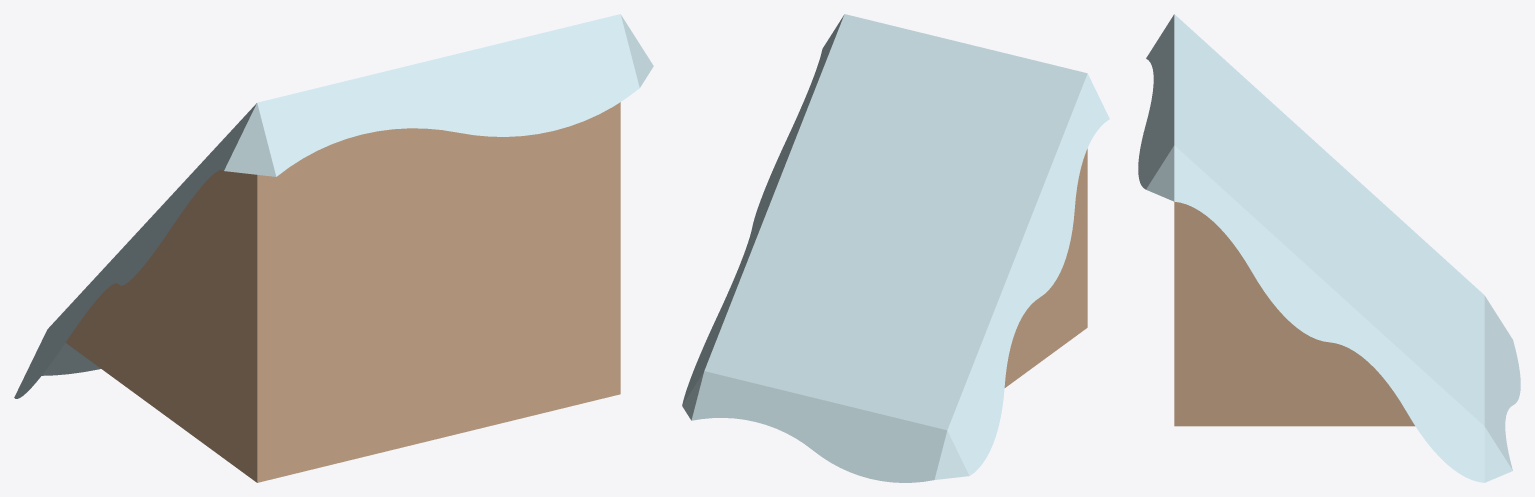
File: blockSnowSlope.glb
3 renders of one model, left to right at view 1: azimuth 30°, elevation 25°; view 2: azimuth 150°, elevation 25°; view 3: azimuth 270°, elevation 25°, orthographic. The views are drawn at different scales.
Parts seen in each view (by area): view 1: blockSnowSlope; view 2: blockSnowSlope; view 3: blockSnowSlope.
Part boxes in pixels (x1,y1,x2,y2): blockSnowSlope: [14, 14, 653, 482]; blockSnowSlope: [682, 14, 1109, 482]; blockSnowSlope: [1138, 14, 1520, 482].
Size of the model in its own units: 1.23 by 1.2 by 1.23.
